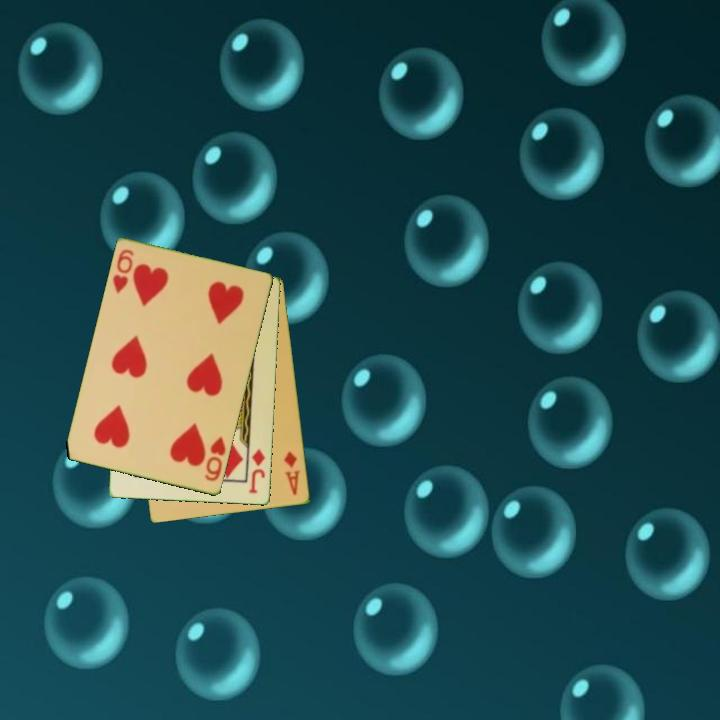6h: (201, 433, 229, 485), (109, 246, 137, 297)
Ad: (280, 448, 303, 498)
Jd: (245, 446, 268, 497)
